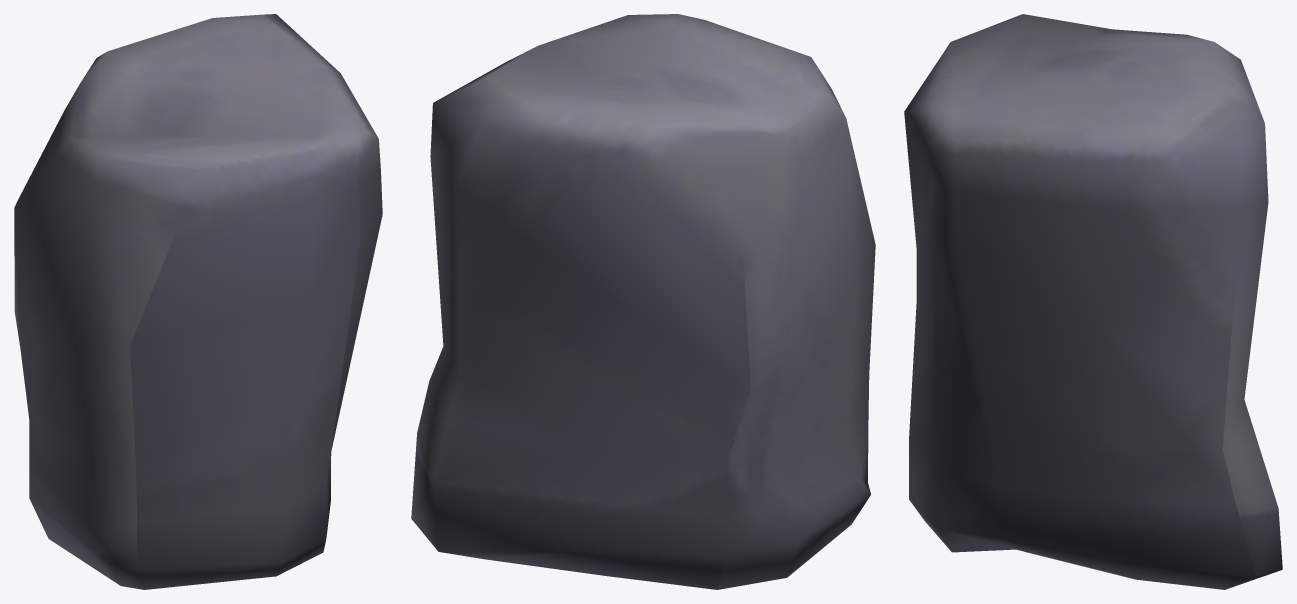
File: DeepForestRock10.fbx
3 renders of one model, left to right at view 1: azimuth 30°, elevation 25°; view 2: azimuth 150°, elevation 25°; view 3: azimuth 270°, elevation 25°, orthographic. The views are drawn at different scales.
Visible parts, largest first — view 1: ForestRock10; view 2: ForestRock10; view 3: ForestRock10.
Boxes of the visible parts, left/top/right/bottom form: ForestRock10: left=14, top=14, right=382, bottom=589; ForestRock10: left=411, top=14, right=875, bottom=589; ForestRock10: left=904, top=14, right=1282, bottom=589.
Size of the model in its own units: 1.97 by 2.6 by 1.93.
